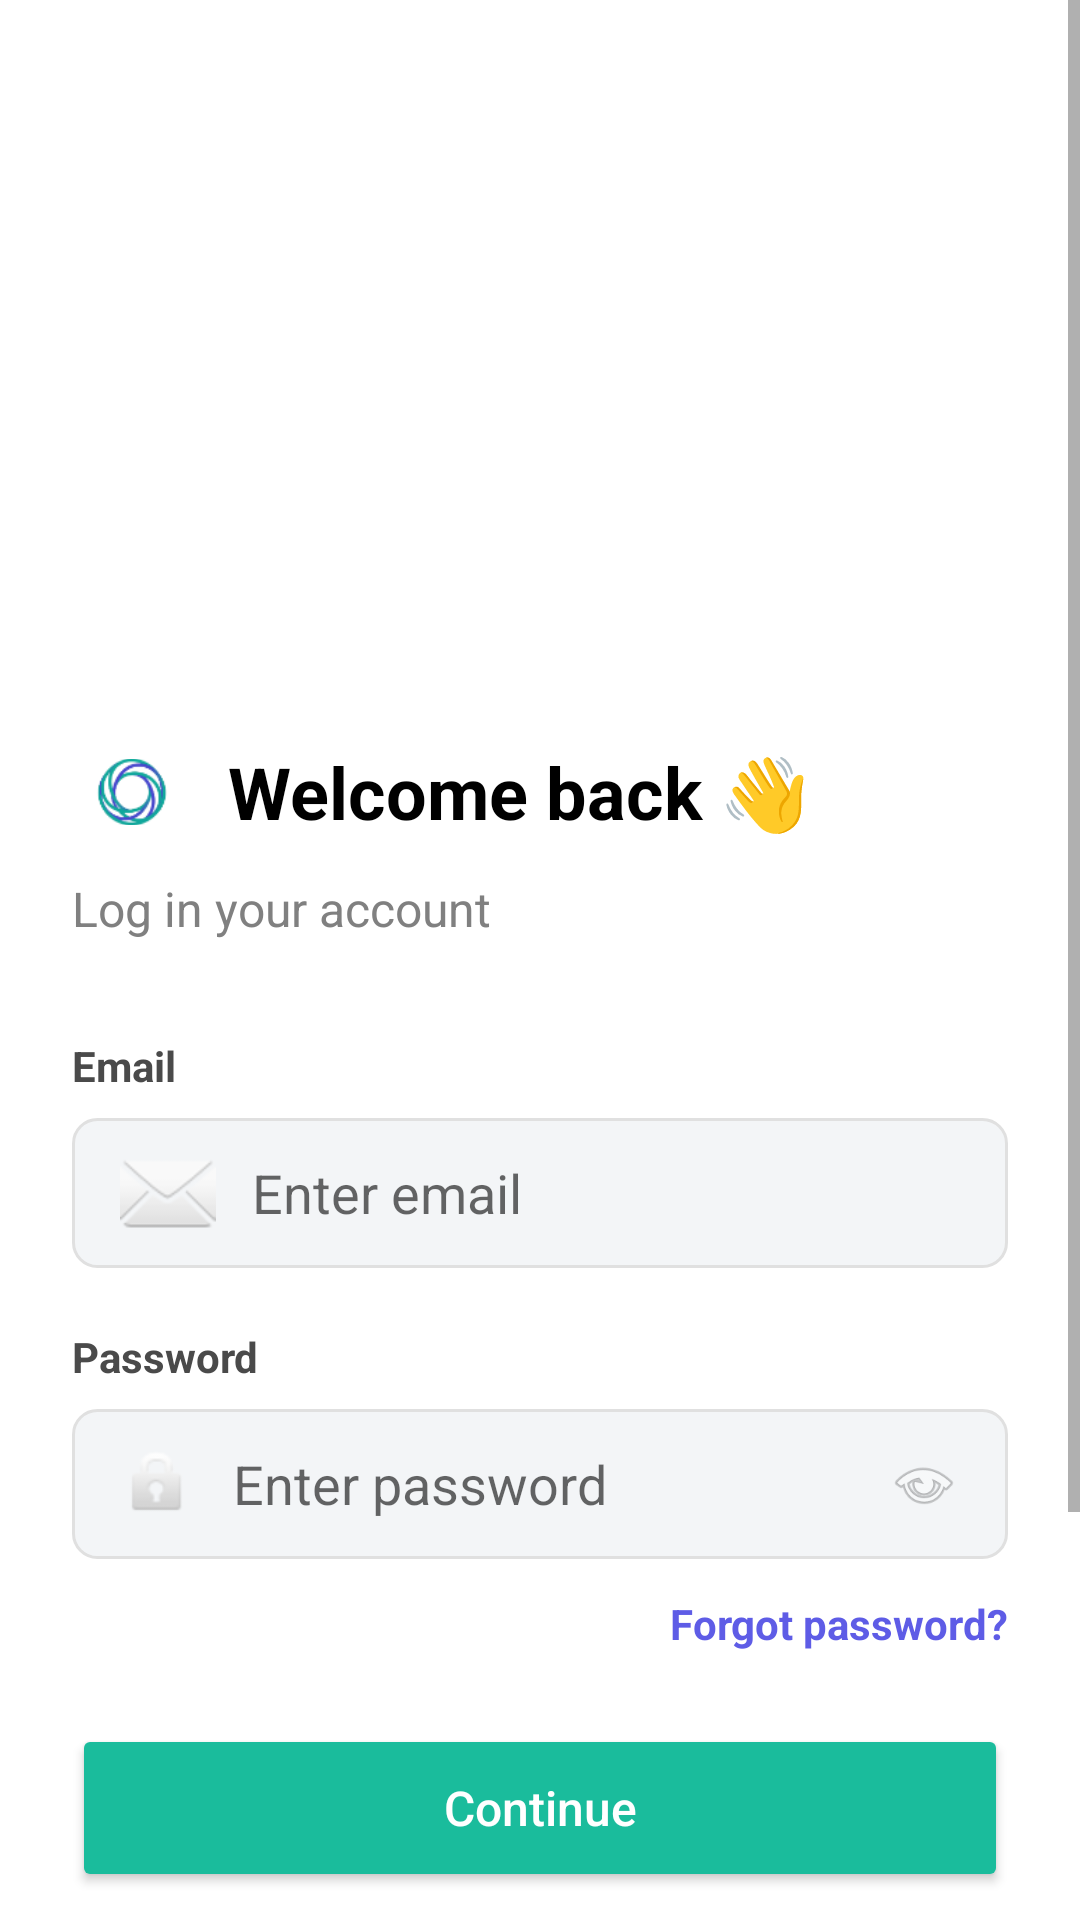

Point at icon controls on the screen. Image size 1080*1920, points as point (x, y).
view: point (924, 1486)
